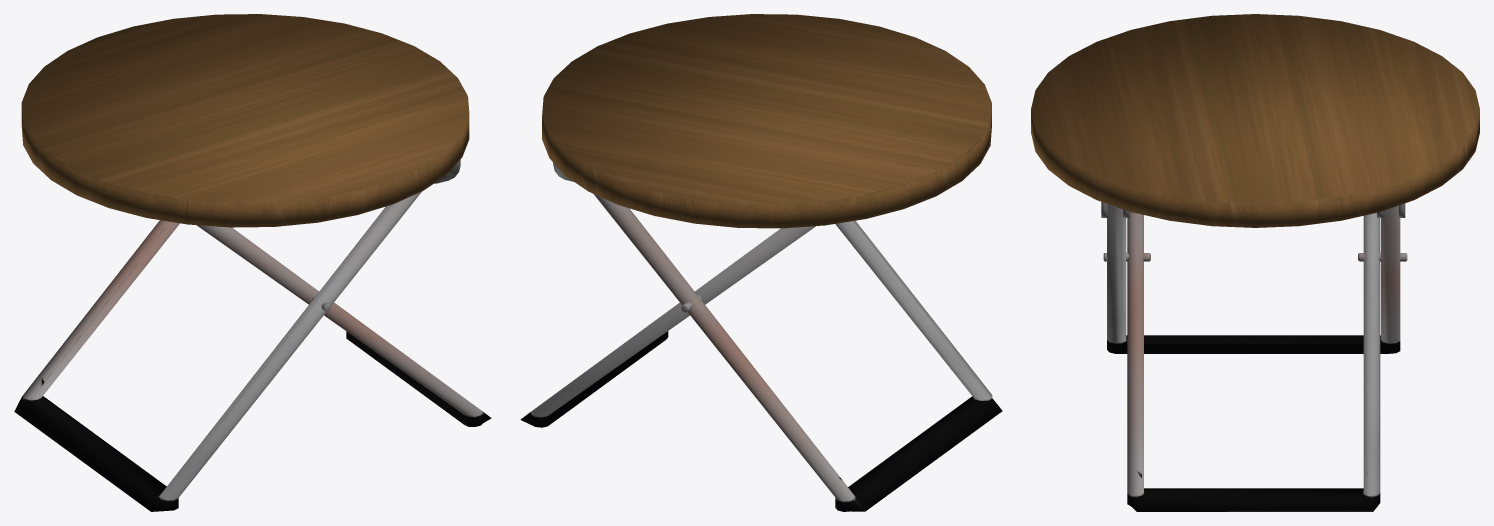
File: FoldTable.fbx
The picture shows the model from 3 angles, left to right: view 1: azimuth 30°, elevation 25°; view 2: azimuth 150°, elevation 25°; view 3: azimuth 270°, elevation 25°; orthographic projection.
Visible parts, largest first — view 1: FoldTable; view 2: FoldTable; view 3: FoldTable.
Boxes of the visible parts, x1,y1,x2,y2 form: FoldTable: (14, 14, 491, 511); FoldTable: (520, 14, 1002, 511); FoldTable: (1031, 14, 1479, 511).
Bounding box in the file's own units: 200 × 153 × 200.
